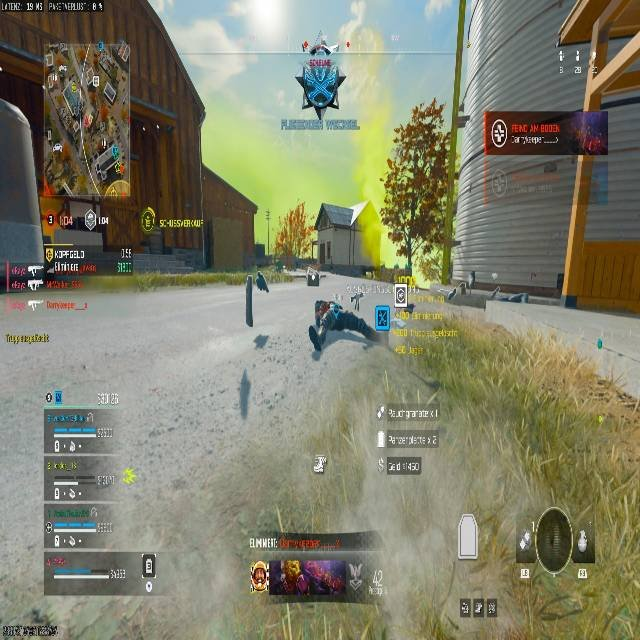head: (314, 299, 329, 315)
player: (294, 41, 347, 119), (248, 242, 273, 294)
